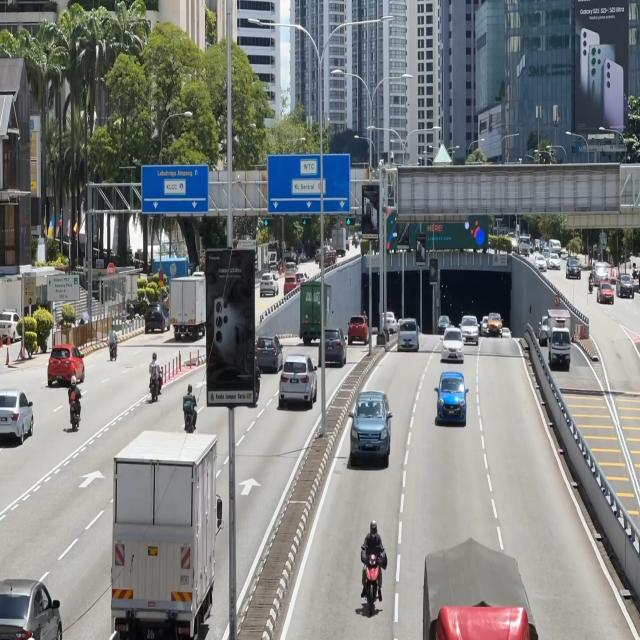Vehicle: (114, 428, 221, 640), (352, 391, 392, 463), (168, 274, 208, 340), (278, 355, 319, 411), (299, 280, 334, 344), (434, 370, 472, 427), (1, 388, 34, 448), (546, 308, 576, 374), (436, 370, 470, 426), (48, 346, 86, 389), (255, 333, 286, 375), (320, 327, 346, 369), (439, 326, 469, 362), (396, 319, 421, 356)
